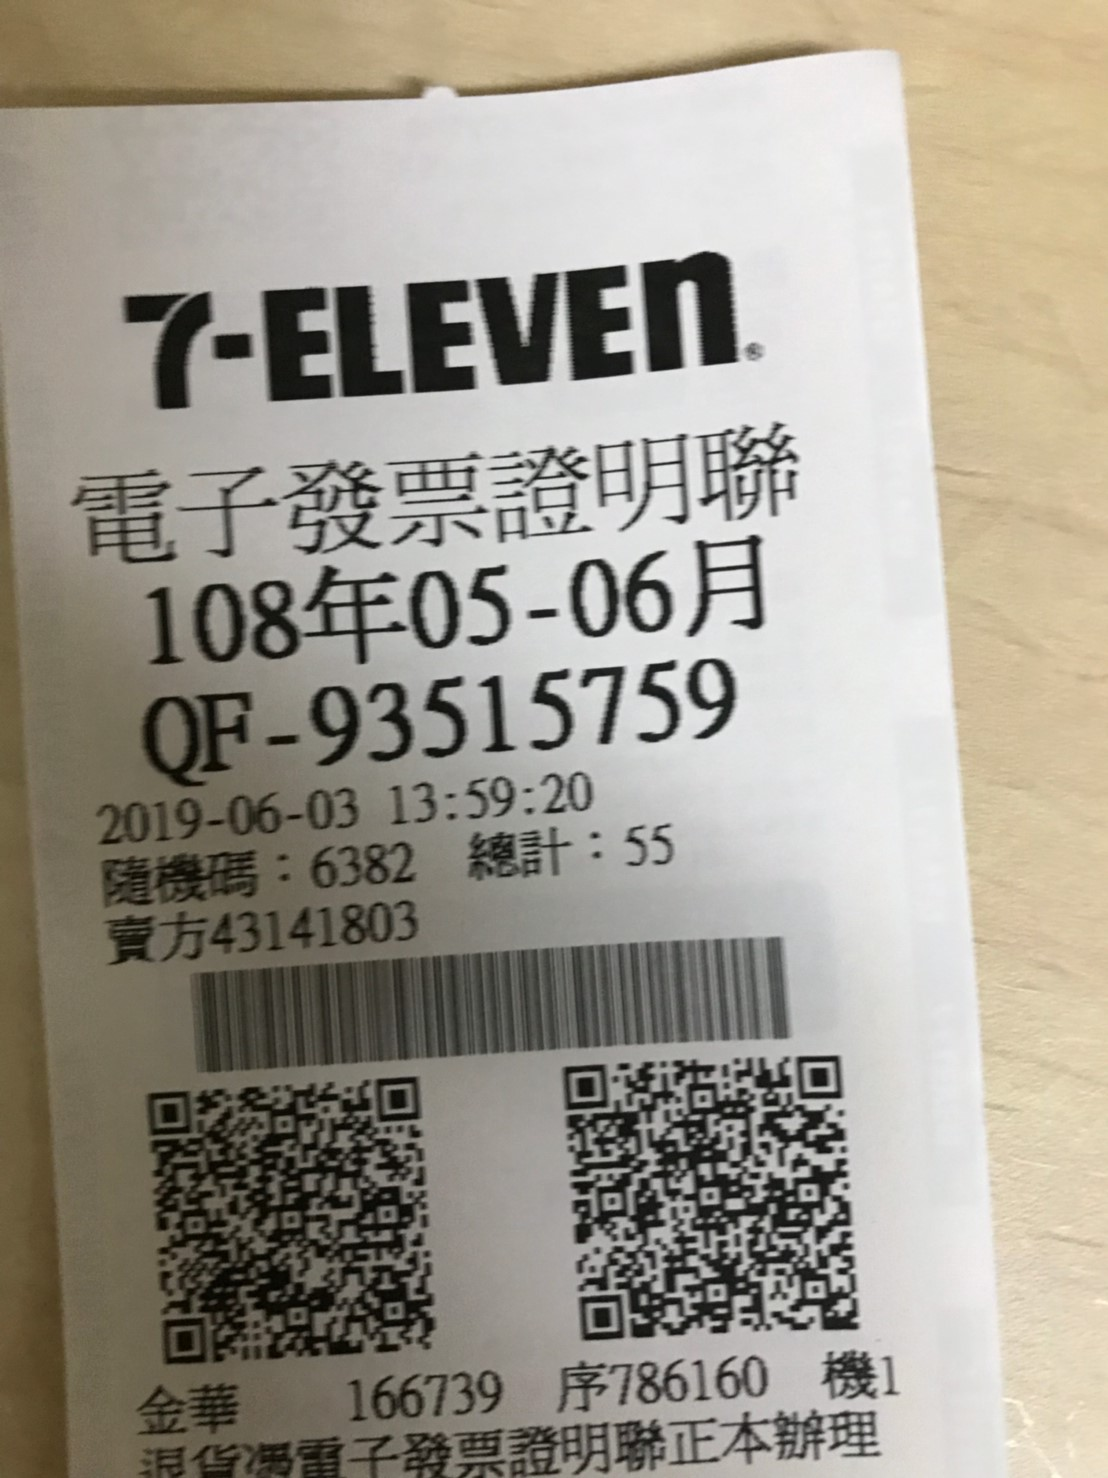Date_New: (143, 533, 766, 667)
Number_New: (306, 655, 743, 766)
